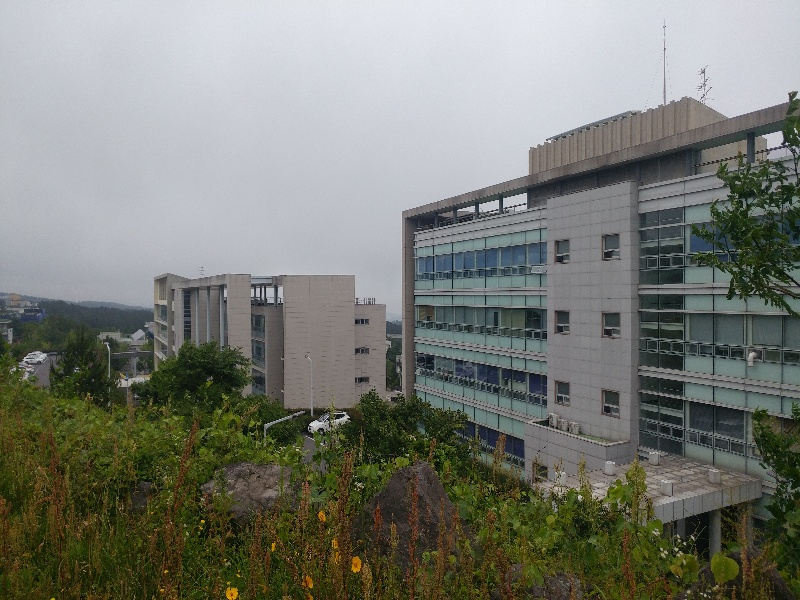College of Marine Science: (405, 114, 795, 508)
Engineering College Building 4: (149, 268, 392, 408), (160, 278, 388, 357)
